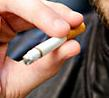smoke: (21, 20, 86, 66)
